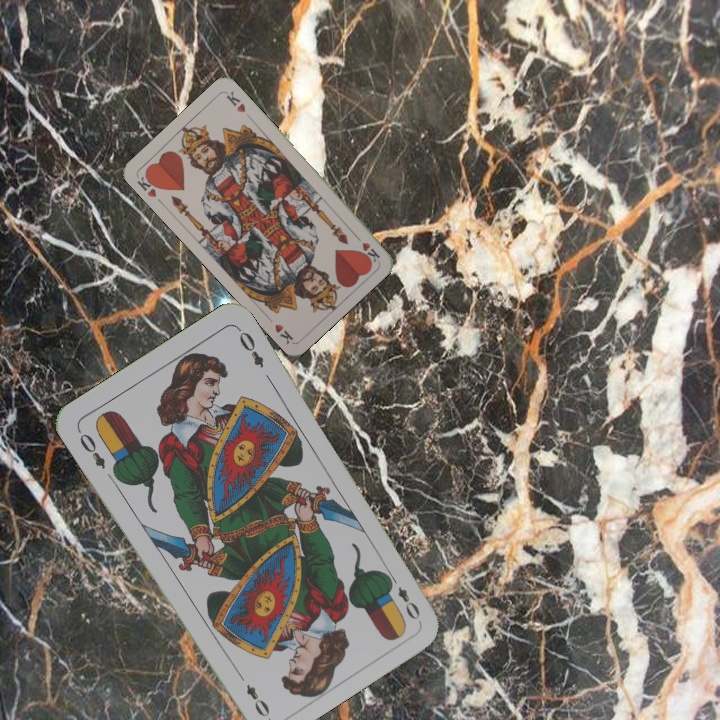EO: (384, 570, 423, 623), (73, 425, 108, 472)
HK: (350, 229, 383, 264), (133, 168, 163, 200)
